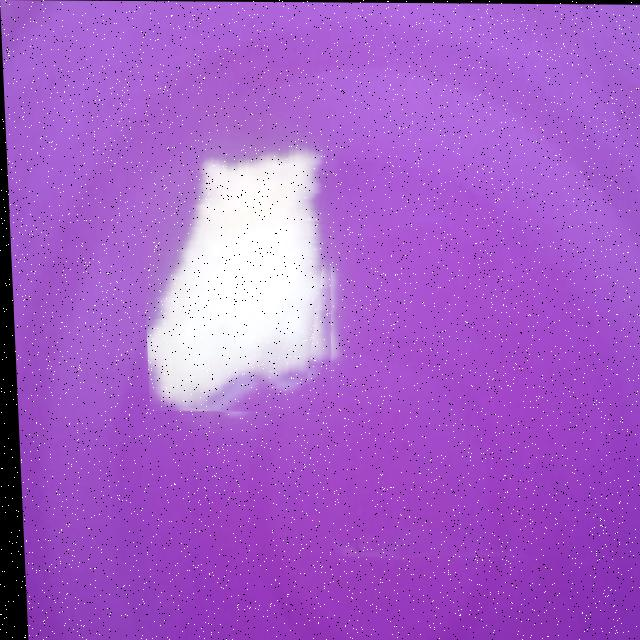thermocoal: (136, 117, 340, 412)
